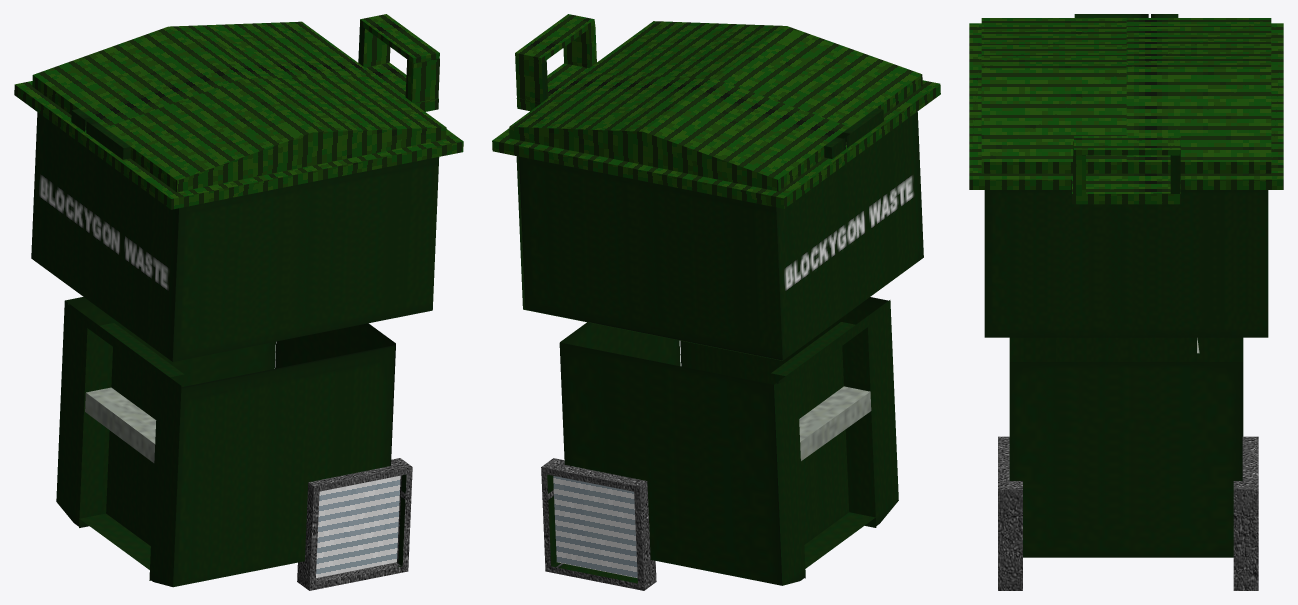
The model's file is BLOCKYGON_TRASH CAN.fbx.
3 views of the same model, side by side, from view 1: azimuth 30°, elevation 25°; view 2: azimuth 150°, elevation 25°; view 3: azimuth 270°, elevation 25° (orthographic).
Visible parts, largest first — view 1: BLOCKYGON_TRASH_CAN; view 2: BLOCKYGON_TRASH_CAN; view 3: BLOCKYGON_TRASH_CAN.
Boxes of the visible parts, left/top/right/bottom form: BLOCKYGON_TRASH_CAN: left=14, top=14, right=463, bottom=590; BLOCKYGON_TRASH_CAN: left=492, top=14, right=940, bottom=590; BLOCKYGON_TRASH_CAN: left=969, top=14, right=1283, bottom=590.
Size of the model in its own units: 101 by 143 by 85.54.
5 materials, 5 textured.
